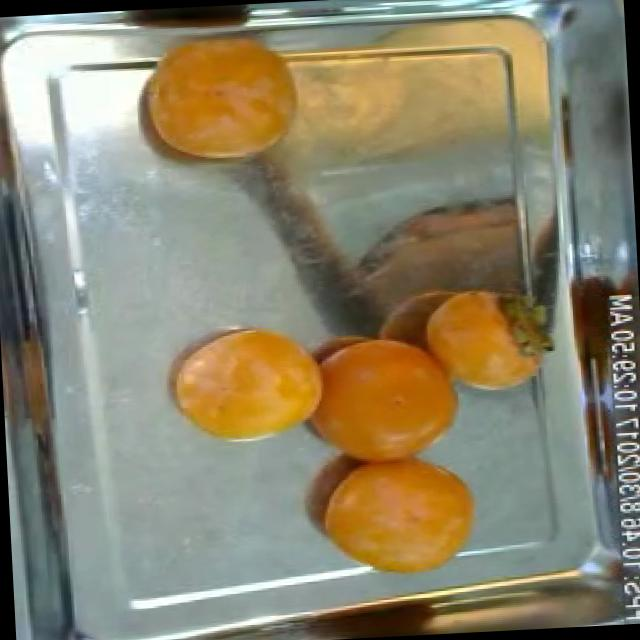Fruit: (289, 428, 498, 590), (328, 43, 536, 179), (152, 316, 336, 456), (408, 273, 575, 409), (356, 195, 540, 312)
